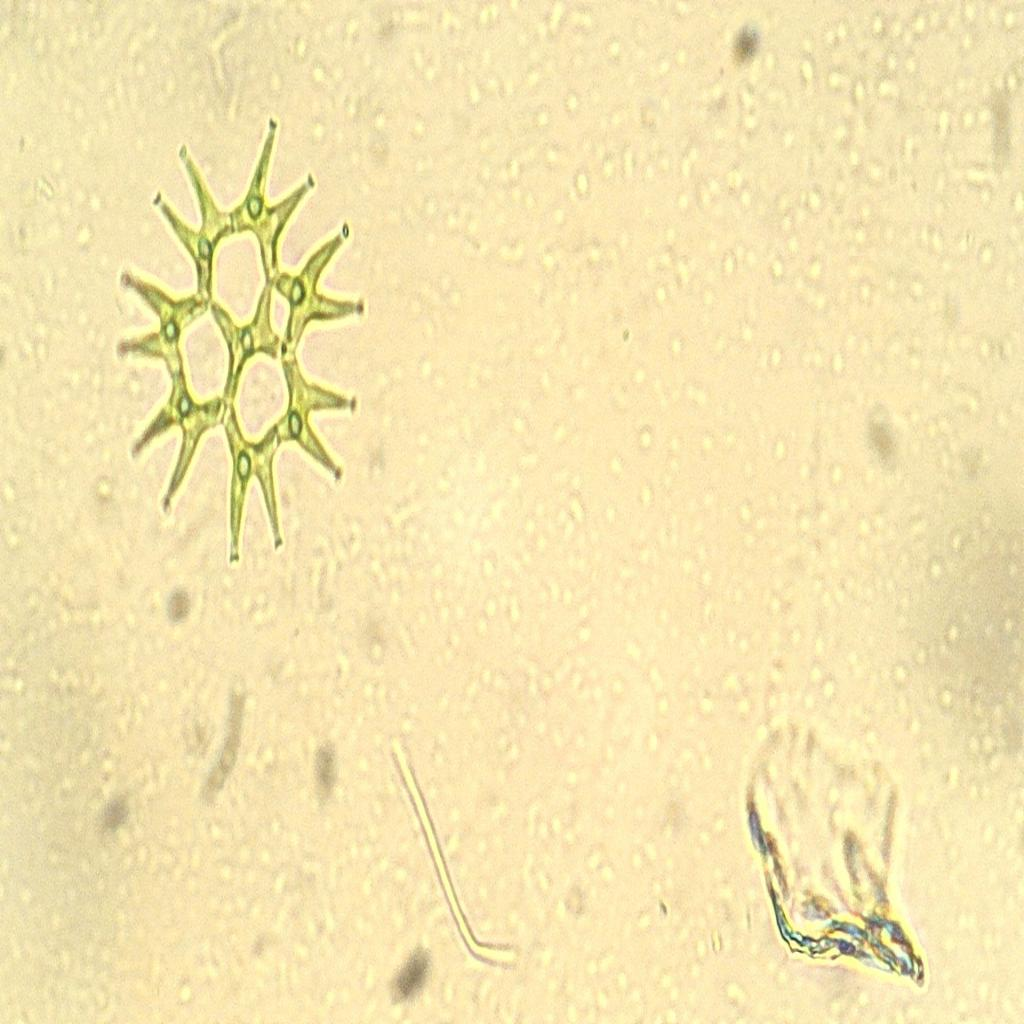Pediastrum_75T: (109, 105, 380, 577)
